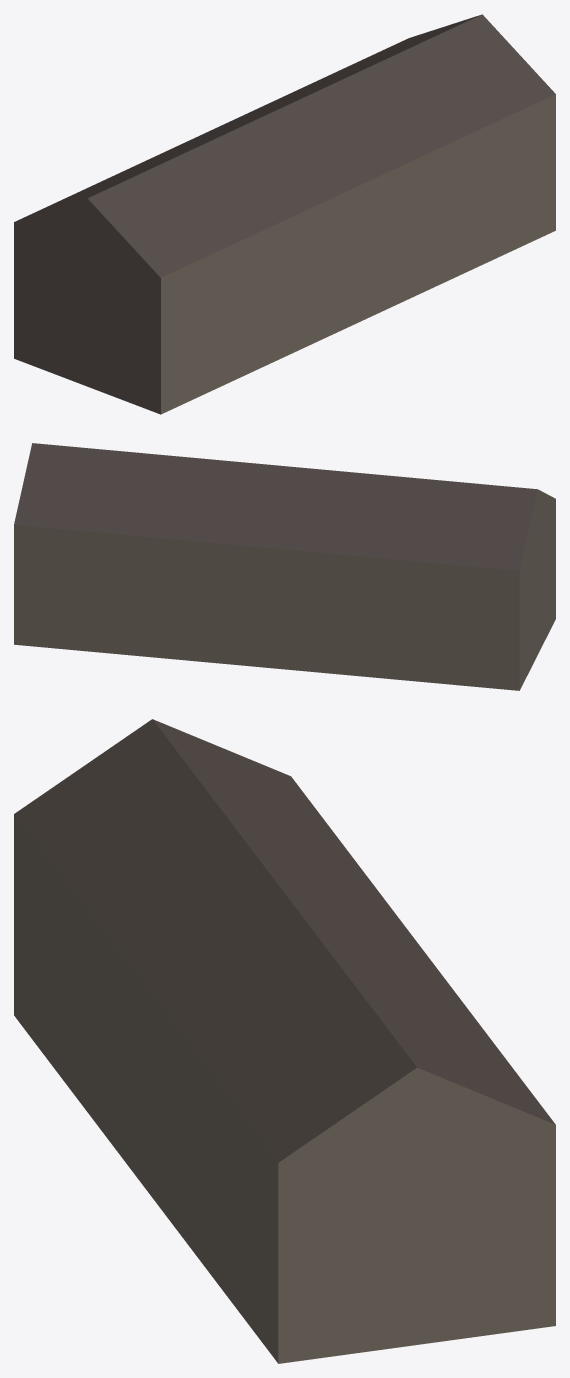
The picture shows the model from 3 angles, top to bottom: view 1: azimuth 30°, elevation 25°; view 2: azimuth 150°, elevation 25°; view 3: azimuth 270°, elevation 25°; orthographic projection. The views are drawn at different scales.
Parts seen in each view (by area): view 1: HP-w408450704; view 2: HP-w408450704; view 3: HP-w408450704.
Part boxes in pixels (<box>): HP-w408450704: <box>14,14,555,414</box>; HP-w408450704: <box>14,443,555,690</box>; HP-w408450704: <box>14,719,555,1363</box>.
Size of the model in its own units: 24.74 by 8.28 by 14.66.
